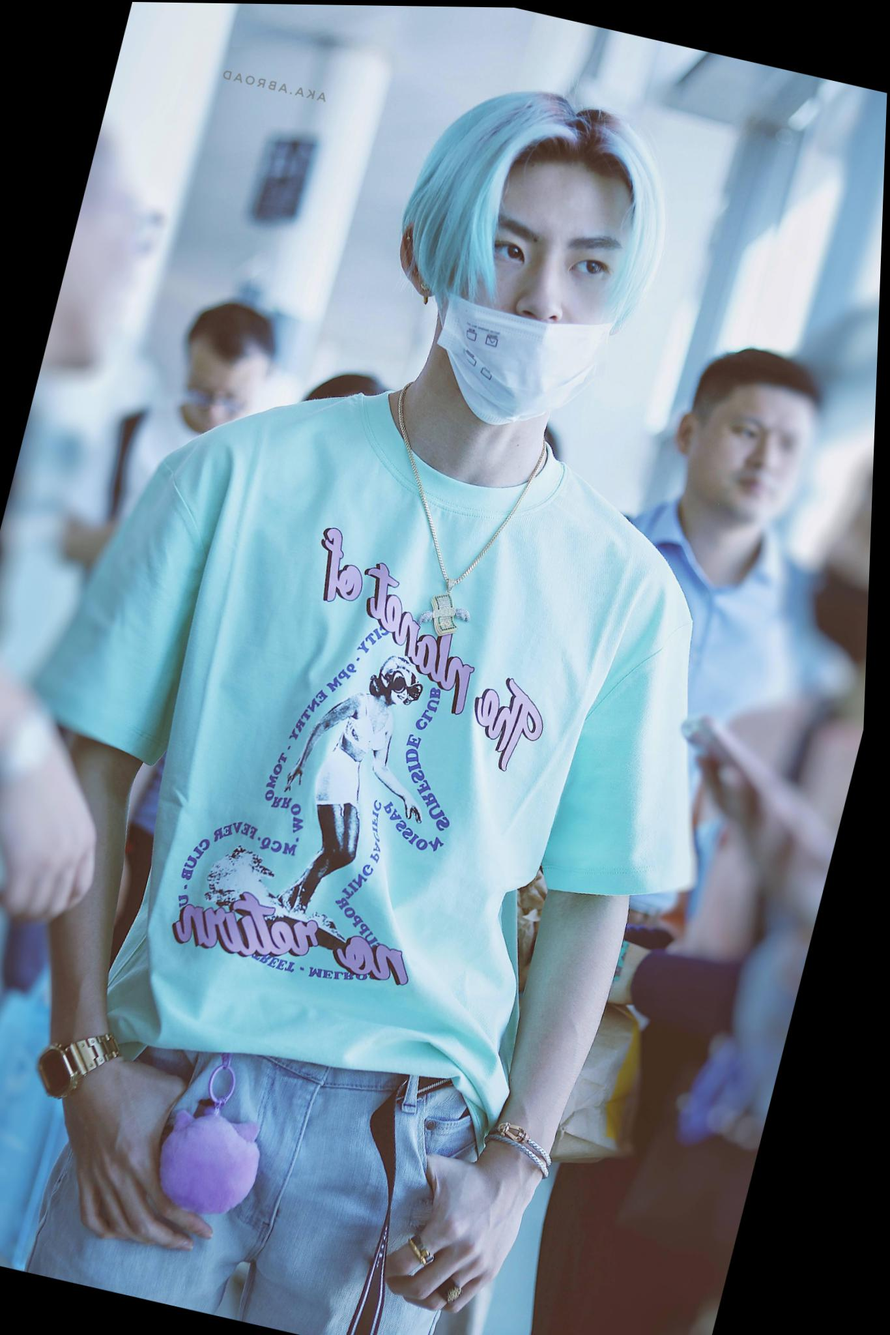NONE: (691, 395, 817, 530), (178, 342, 271, 438)
WRONG: (422, 175, 637, 435), (807, 480, 876, 664)
